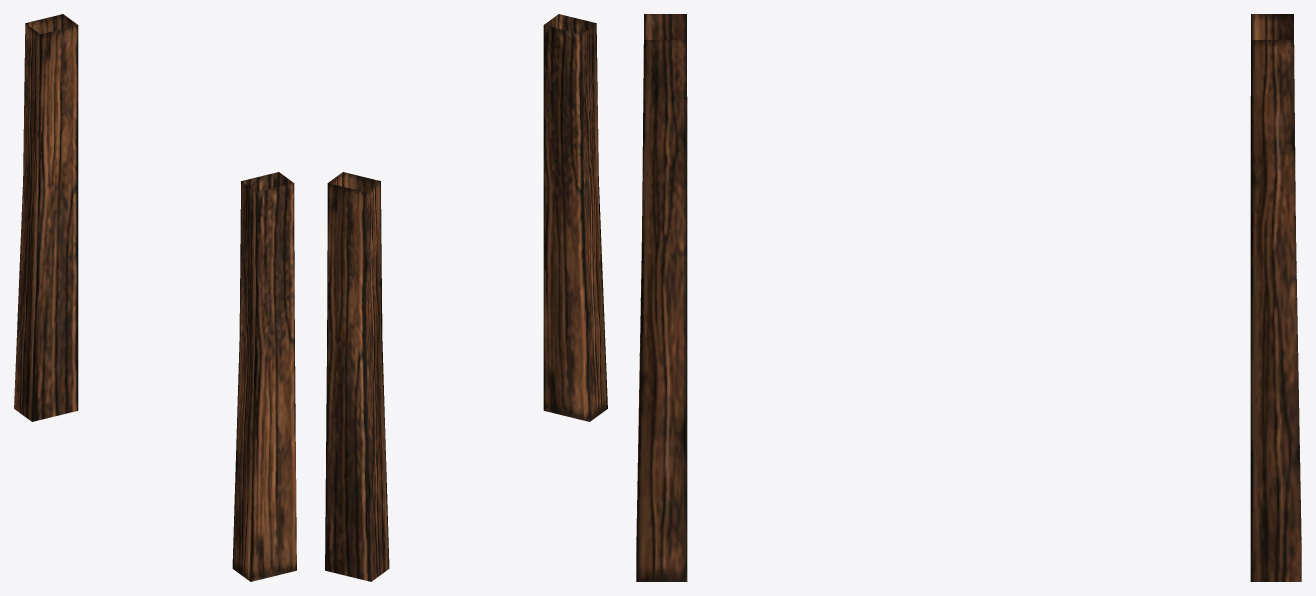
Rendered from LAKETOWN_WAREHOUSE2_PS_WH2_DOORFRAME373646.fbx.
3 renders of one model, left to right at view 1: azimuth 30°, elevation 25°; view 2: azimuth 150°, elevation 25°; view 3: azimuth 270°, elevation 25°, orthographic. The views are drawn at different scales.
Visible parts, largest first — view 1: LAKETOWN_WAREHOUSE2_PS_WH2_DOORFRAME373646; view 2: LAKETOWN_WAREHOUSE2_PS_WH2_DOORFRAME373646; view 3: LAKETOWN_WAREHOUSE2_PS_WH2_DOORFRAME373646.
Part boxes in pixels (bbox=[...]): LAKETOWN_WAREHOUSE2_PS_WH2_DOORFRAME373646: bbox=[14, 14, 296, 581]; LAKETOWN_WAREHOUSE2_PS_WH2_DOORFRAME373646: bbox=[325, 14, 607, 581]; LAKETOWN_WAREHOUSE2_PS_WH2_DOORFRAME373646: bbox=[636, 14, 1301, 581].
Bounding box in the file's own units: 3836 × 30512 × 33950.
Materials: 1 (1 with a texture image).
